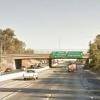Bridge: (8, 45, 85, 63)
